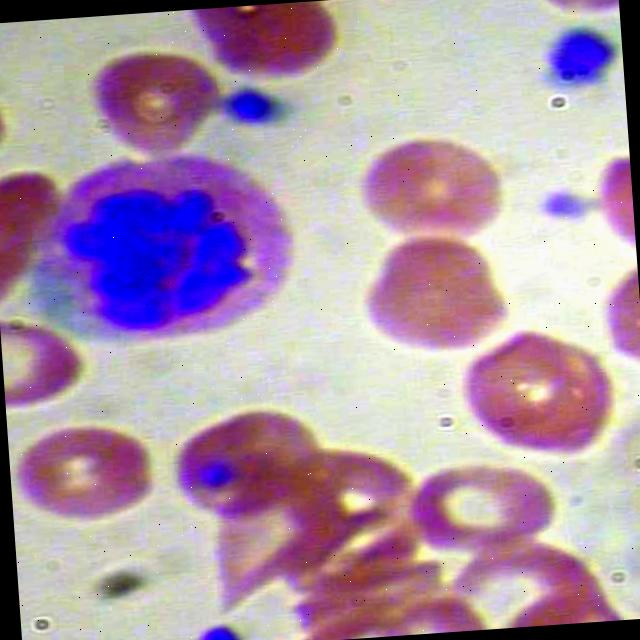Platelets: (532, 19, 618, 94), (214, 79, 290, 130), (538, 180, 598, 224), (179, 621, 246, 640)
RBC: (450, 318, 617, 464), (348, 122, 514, 250), (355, 228, 521, 356), (163, 400, 329, 528), (6, 412, 168, 538), (80, 42, 220, 166), (398, 454, 558, 560), (190, 0, 349, 79), (0, 310, 92, 410)
WBC: (19, 140, 308, 362)
